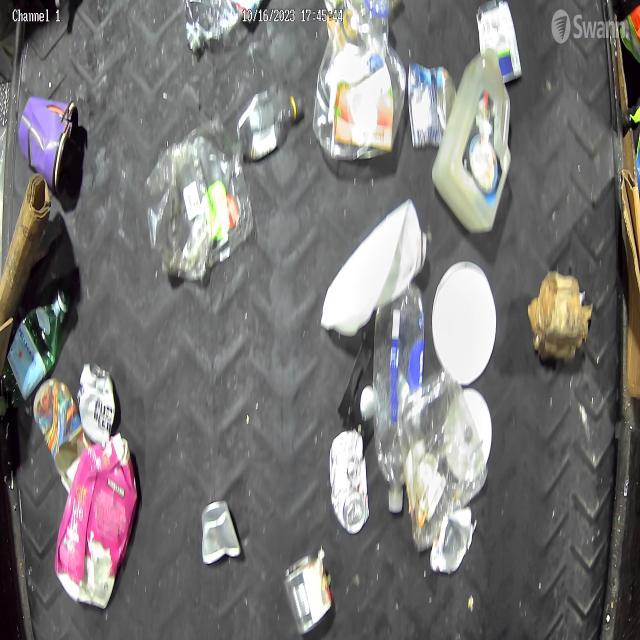can: (282, 548, 336, 640), (407, 60, 458, 152), (328, 428, 369, 536), (75, 359, 118, 444), (201, 496, 243, 568)
milk_jug: (320, 198, 428, 342)
non_white_jug: (54, 431, 140, 614), (431, 52, 514, 239)
plastic_bottle: (370, 277, 428, 519), (0, 280, 72, 416), (236, 80, 308, 164)
